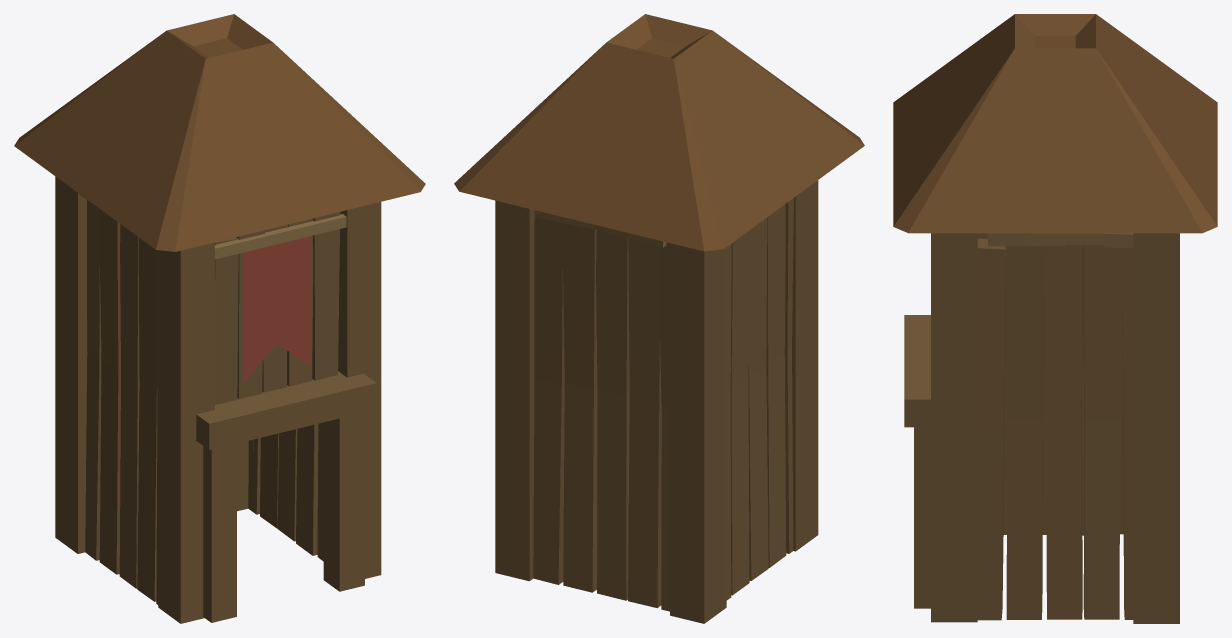
Rendered from highwood-watchtower.glb.
3 views of the same model, side by side, from view 1: azimuth 30°, elevation 25°; view 2: azimuth 150°, elevation 25°; view 3: azimuth 270°, elevation 25° (orthographic). The views are drawn at different scales.
Visible parts, largest first — view 1: Highwood_TimberWatchtower; view 2: Highwood_TimberWatchtower; view 3: Highwood_TimberWatchtower.
Boxes of the visible parts, left/top/right/bottom form: Highwood_TimberWatchtower: left=14, top=14, right=425, bottom=623; Highwood_TimberWatchtower: left=454, top=14, right=864, bottom=623; Highwood_TimberWatchtower: left=893, top=14, right=1217, bottom=623.
Bounding box in the file's own units: 3.63 × 6.67 × 3.63.
